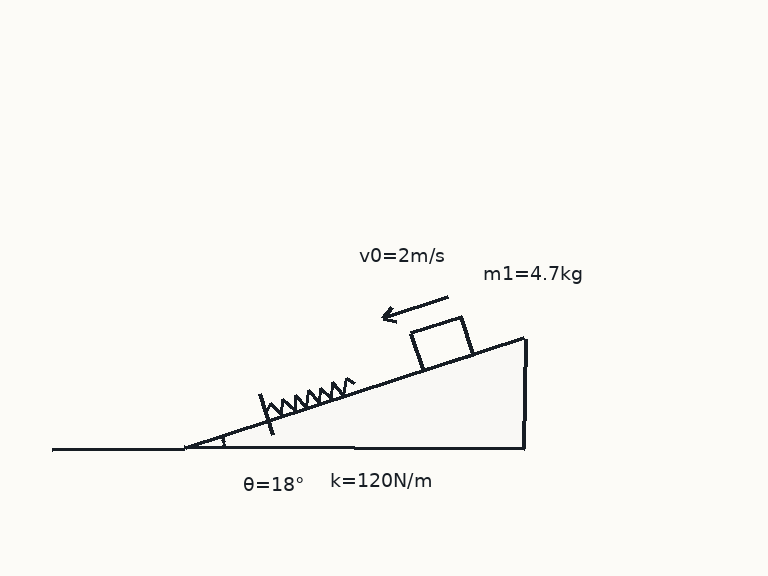block: (408, 315, 475, 373)
ramp: (182, 336, 526, 450)
spring: (264, 377, 356, 416)
